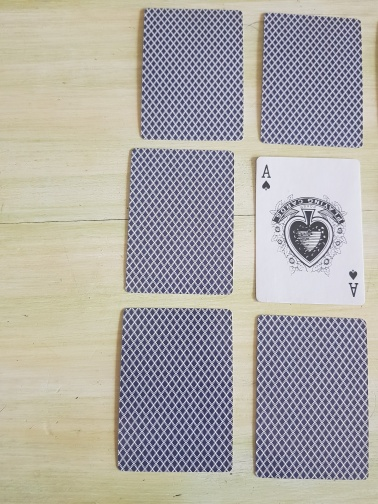ace: (254, 156, 366, 305)
